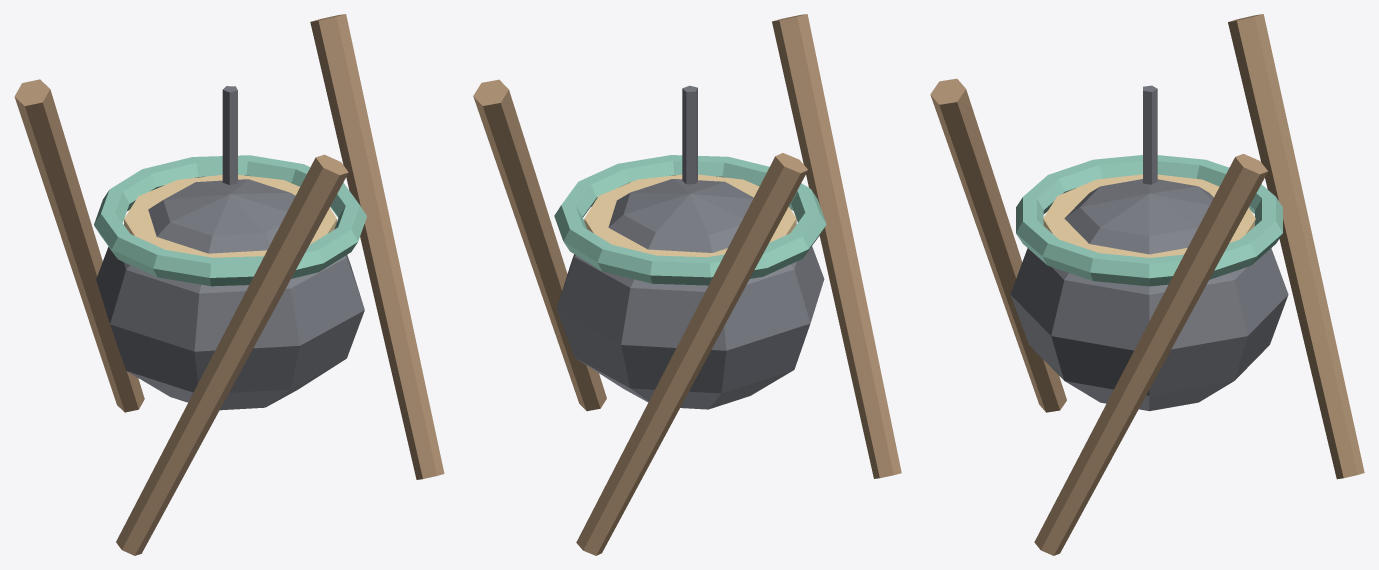
The model's file is simmerpot.glb.
3 renders of one model, left to right at view 1: azimuth 30°, elevation 25°; view 2: azimuth 150°, elevation 25°; view 3: azimuth 270°, elevation 25°, orthographic.
Visible parts, largest first — view 1: Pot, Leg0, Leg2, Rim, Leg1, BrothTop, Hook; view 2: Pot, Leg2, Leg1, Rim, Leg0, BrothTop, Hook; view 3: Pot, Leg1, Leg0, Rim, Leg2, BrothTop, Hook.
Part boxes in pixels (x1,y1,x2,y2): Pot: [96, 179, 364, 410]; Leg0: [310, 14, 444, 479]; Leg2: [116, 154, 348, 555]; Rim: [94, 155, 366, 286]; Leg1: [14, 79, 144, 412]; BrothTop: [124, 174, 336, 257]; Hook: [222, 86, 237, 185]; Pot: [556, 179, 824, 409]; Leg2: [772, 14, 901, 478]; Leg1: [576, 153, 807, 555]; Rim: [554, 155, 826, 285]; Leg0: [473, 79, 606, 411]; BrothTop: [584, 174, 796, 257]; Hook: [682, 85, 697, 184]; Pot: [1010, 179, 1288, 411]; Leg1: [1228, 14, 1364, 479]; Leg0: [1034, 154, 1268, 555]; Rim: [1016, 155, 1282, 286]; Leg2: [930, 78, 1066, 412]; BrothTop: [1043, 174, 1255, 257]; Hook: [1143, 85, 1157, 184].
Size of the model in its own units: 0.9199 by 1.07 by 1.06.
